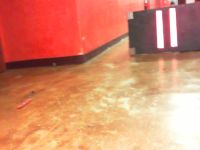switch: (168, 7, 179, 47), (155, 10, 166, 49)
